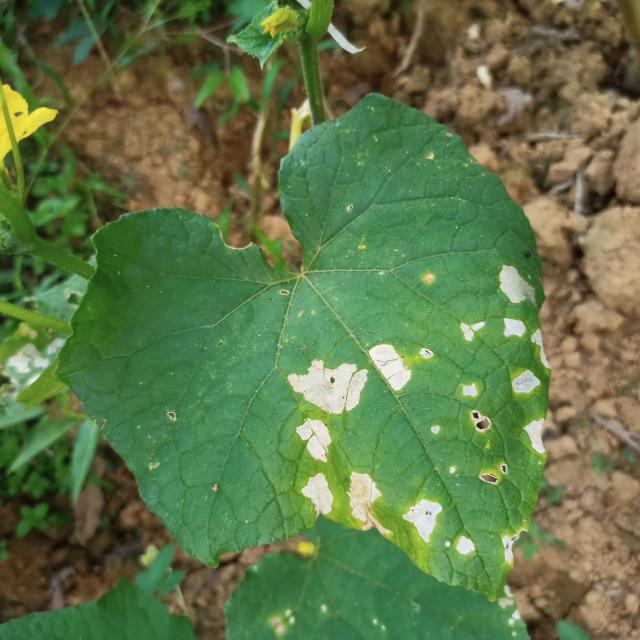disease_cucumber: (290, 347, 410, 416), (403, 499, 478, 562), (302, 473, 379, 524), (496, 264, 535, 339), (460, 380, 493, 435), (296, 420, 332, 463), (525, 416, 547, 457), (530, 329, 552, 368), (508, 368, 541, 392), (459, 318, 485, 342)
